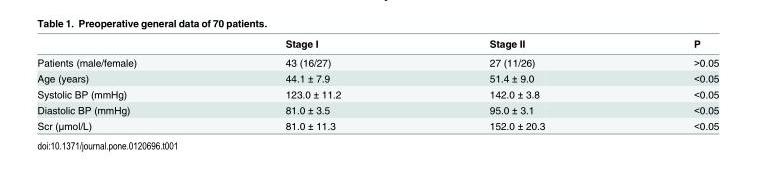table: (36, 37, 718, 131)
table column: (210, 37, 414, 131), (414, 37, 618, 131), (36, 37, 210, 131), (618, 37, 718, 131)
table column header: (36, 37, 718, 52)
table row: (36, 52, 718, 70), (36, 85, 718, 101), (36, 101, 718, 117), (36, 37, 718, 52), (36, 70, 718, 85), (36, 117, 718, 131)
